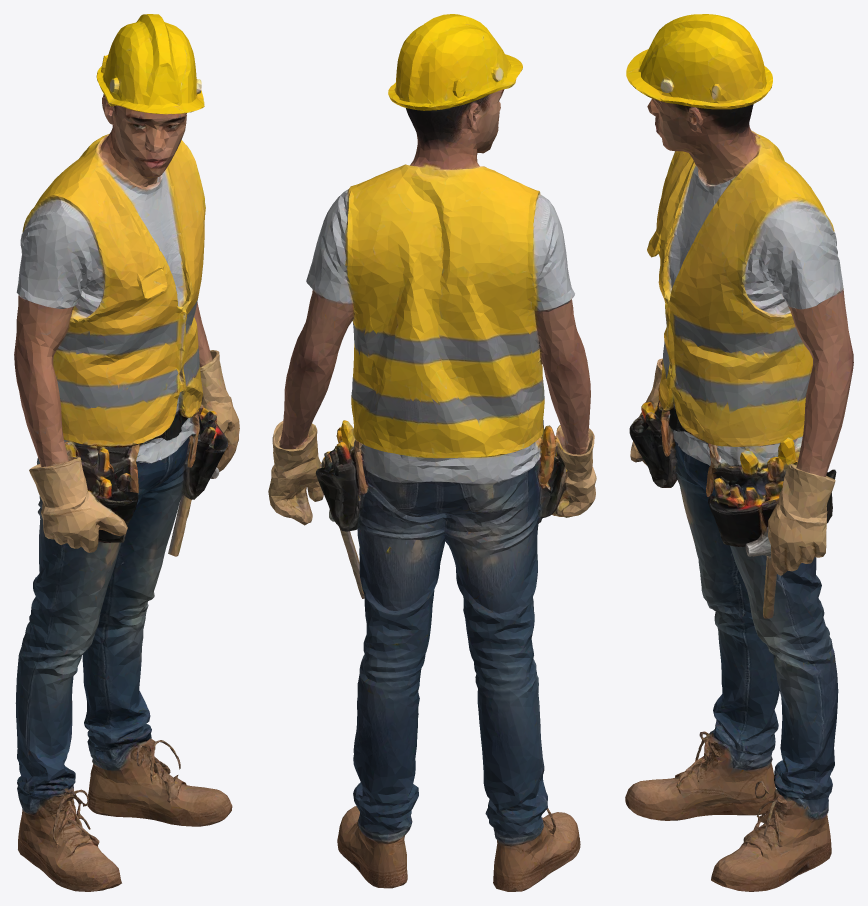
File: cwork.glb
3 views of the same model, side by side, from view 1: azimuth 30°, elevation 25°; view 2: azimuth 150°, elevation 25°; view 3: azimuth 270°, elevation 25° (orthographic).
Visible parts, largest first — view 1: m.obj; view 2: m.obj; view 3: m.obj.
Part boxes in pixels (left/top/right/bottom): m.obj: left=14, top=14, right=239, bottom=891; m.obj: left=268, top=14, right=596, bottom=891; m.obj: left=625, top=14, right=853, bottom=891.
Size of the model in its own units: 0.6272 by 1.9 by 0.4688.
1 material, 1 textured.
